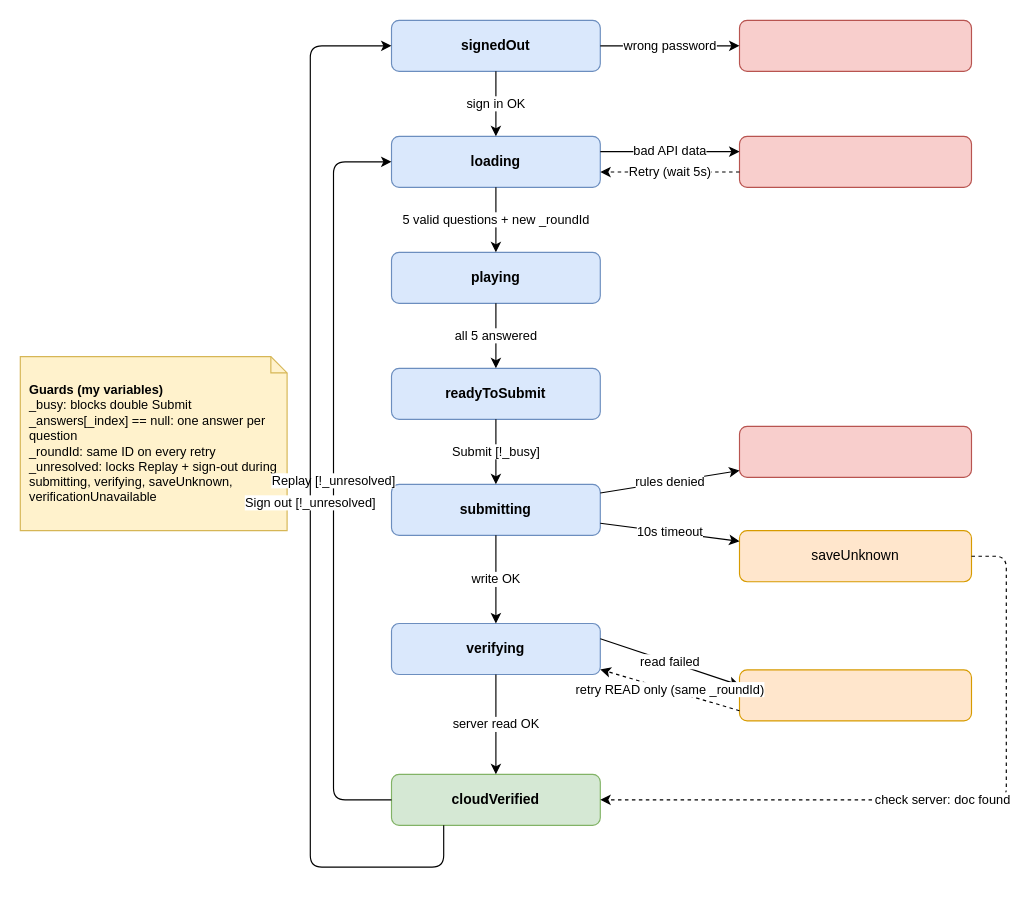
This 1036x897 diagram has some shape labels left out. Each missing label, with the centre of its shape:
"authError" belongs at [854,45].
"permissionDenied" belongs at [854,451].
"requestError" belongs at [854,161].
"verificationUnavailable" belongs at [854,695].
